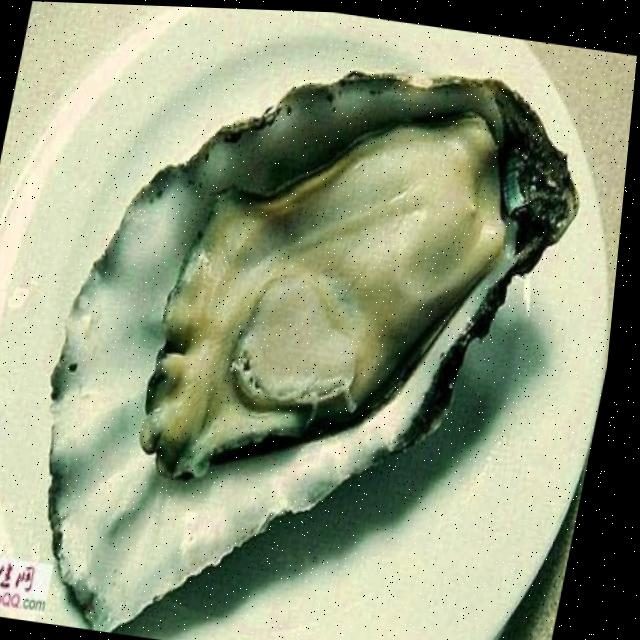Oyster-Open: (0, 15, 613, 640)
